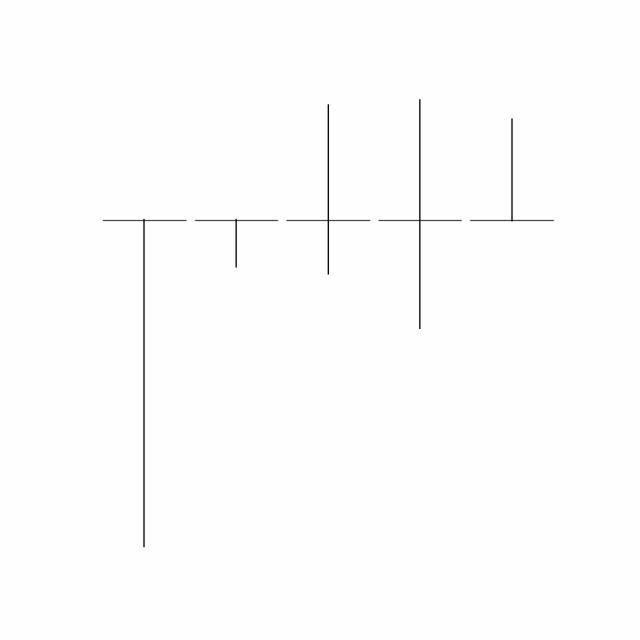Gravestone Doji: (466, 118, 559, 224)
